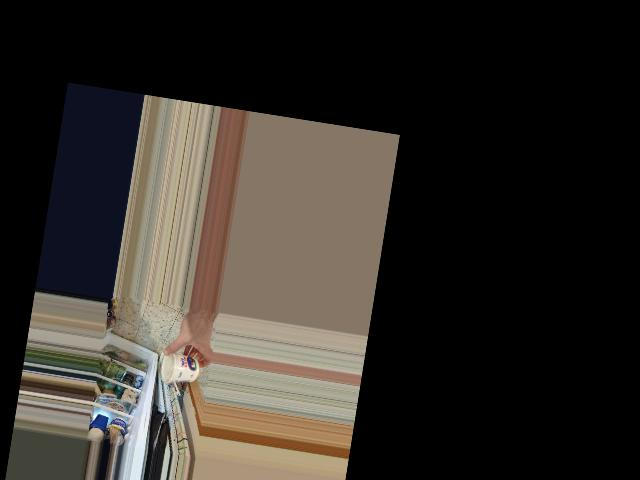cotage: (157, 348, 205, 388)
